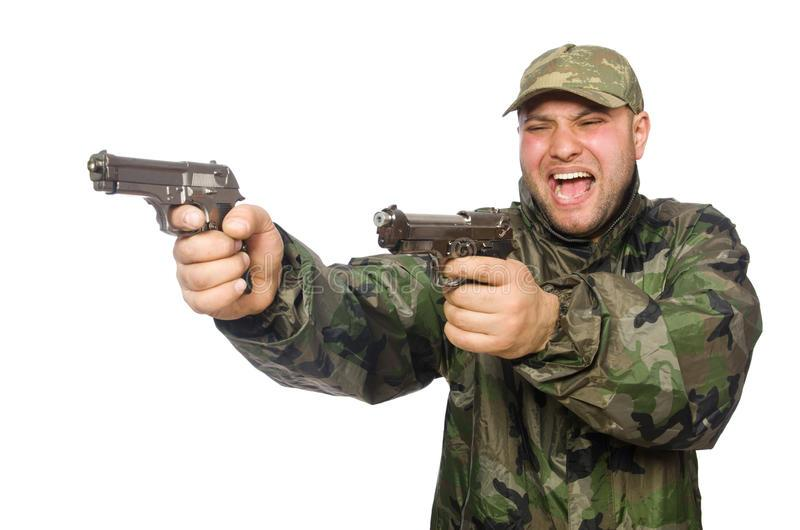criminal: (85, 40, 764, 530)
weapon: (84, 147, 258, 296), (369, 200, 521, 303)
